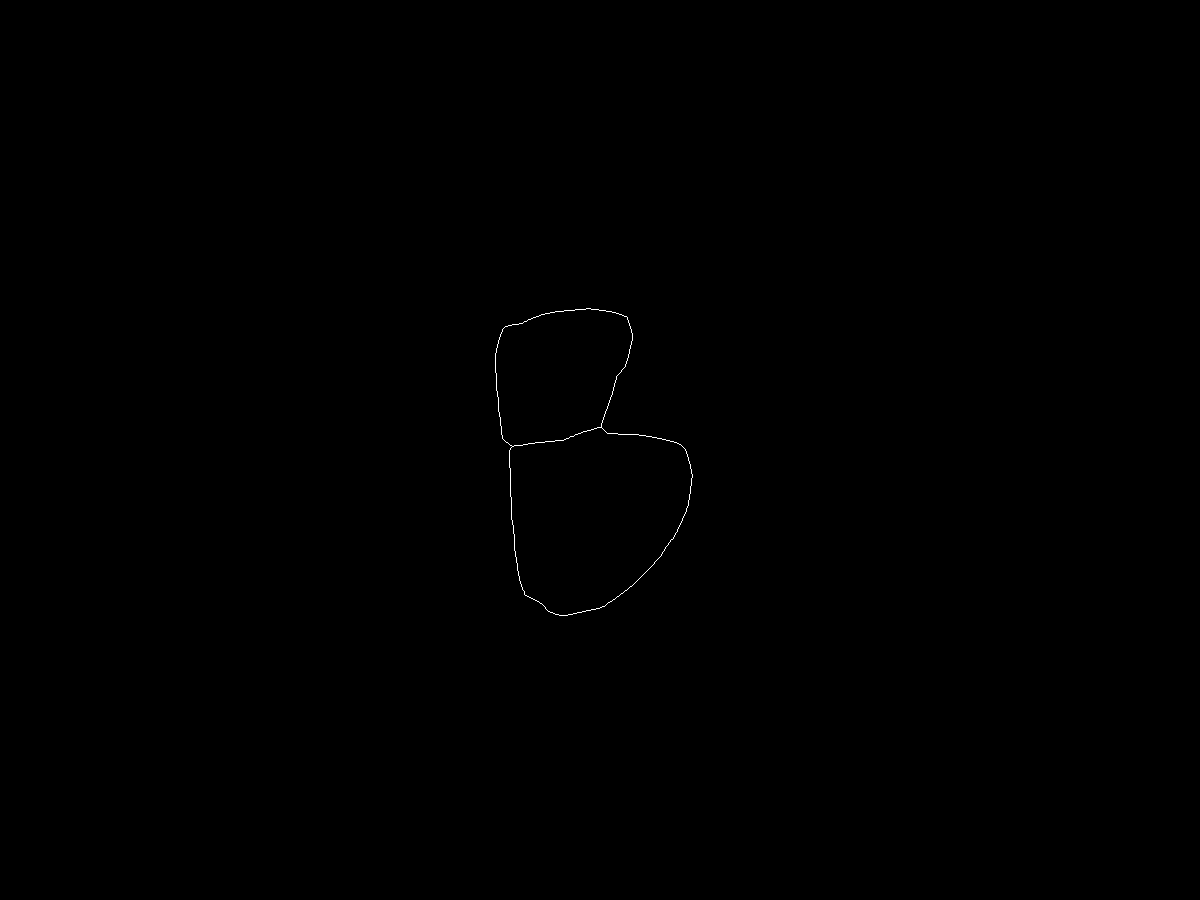dian1: (495, 324, 509, 338)
dian2: (493, 437, 516, 460)
dian3: (515, 588, 529, 602)
dian4: (596, 424, 612, 440)
